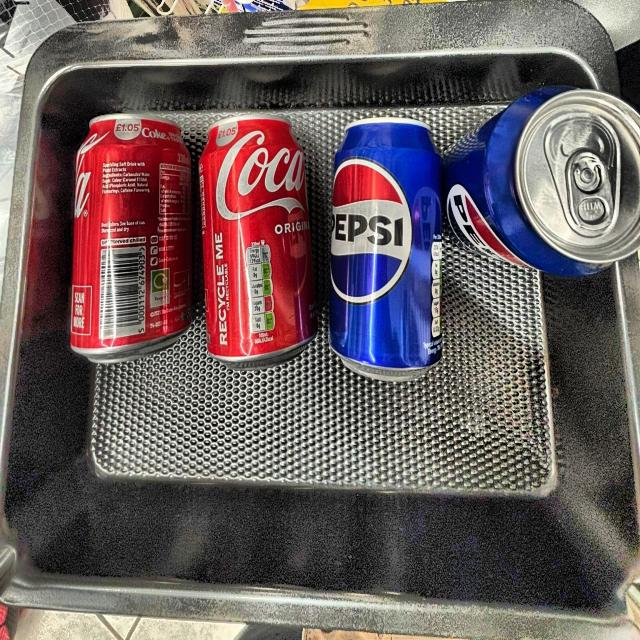coke-can: (58, 108, 202, 357), (197, 117, 322, 369)
pepsi-can: (450, 102, 640, 279), (328, 112, 444, 394)
